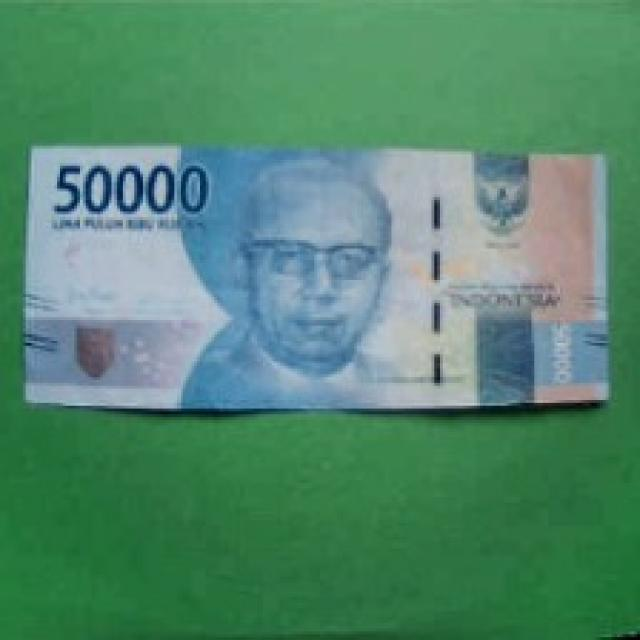dua ribu rupiah: (0, 94, 640, 432)
